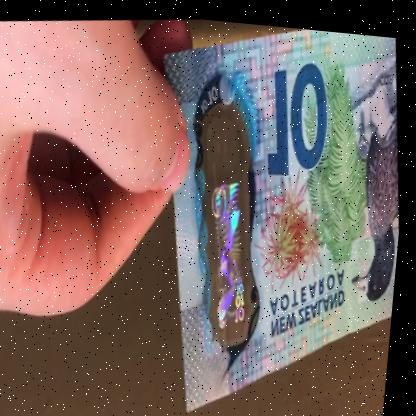10F: (196, 113, 269, 334)
